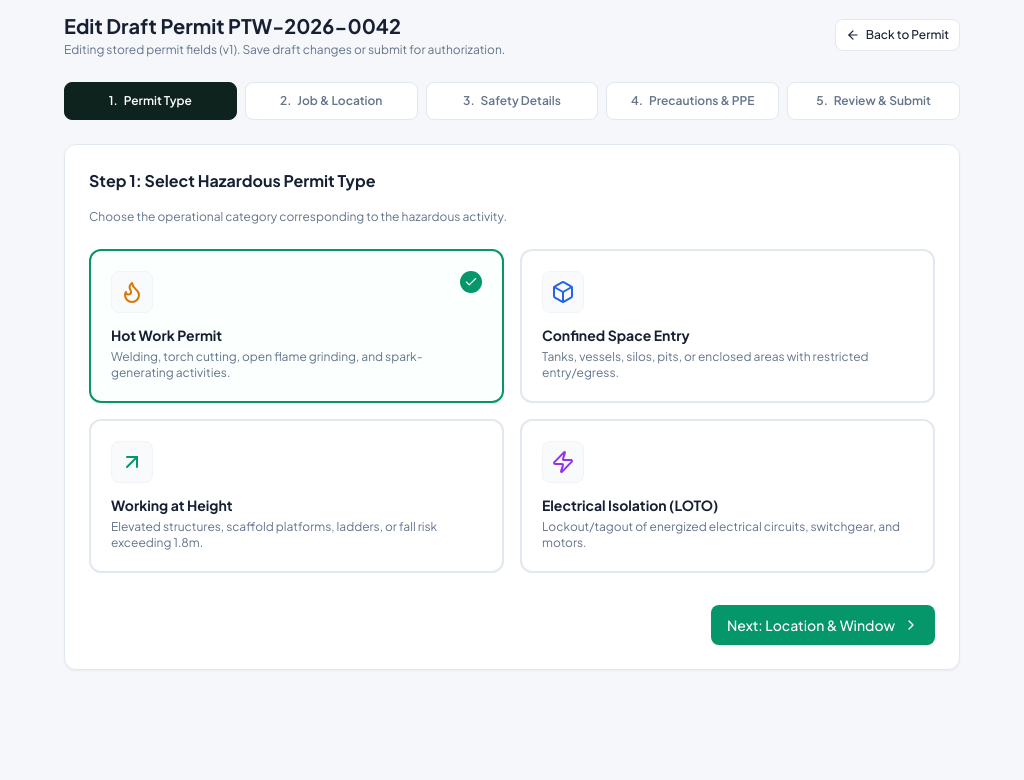
Scenario: Bug B UI Regression: EditPermitPage full draft hydration, version refresh, & step-level submit errors › jumps to the failing step and renders field-level errors next to controls when submit returns 422
Expected: the heading "Edit Draft Permit PTW-2026-0042" is shown, [64,13,401,38]
Jump to step 5 and attempt Submit
Click the text "Review & Submit" at [882, 101], box [834,93,931,109]
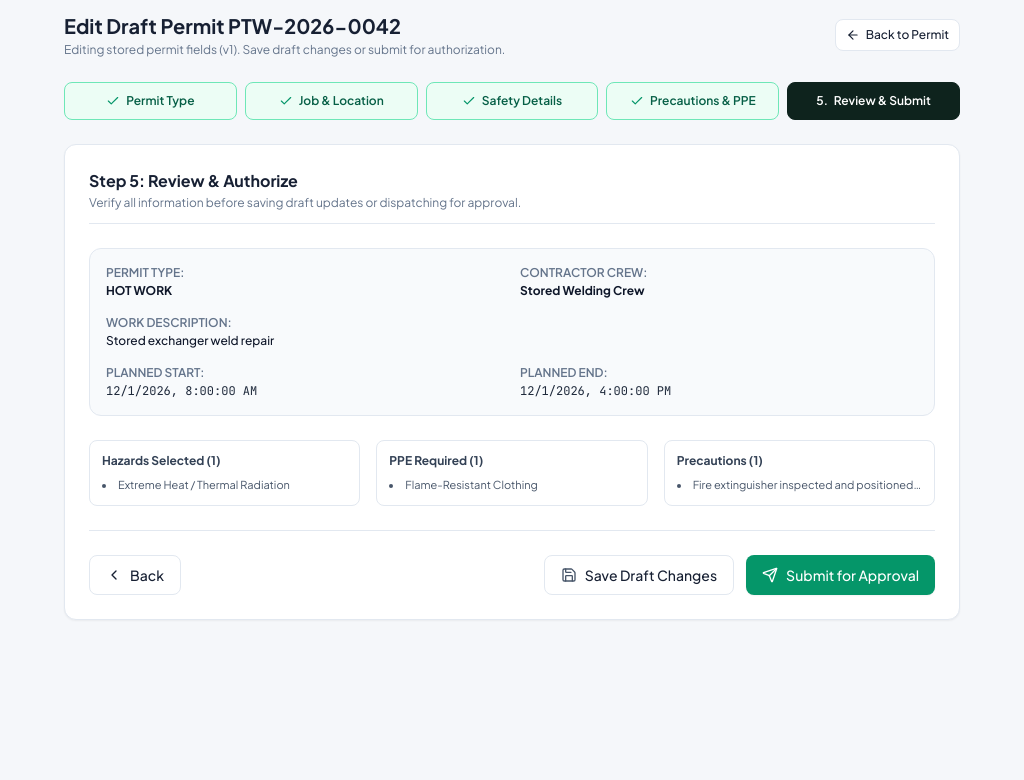
Click the button "Submit for Approval" at [841, 575], box [746,555,935,595]
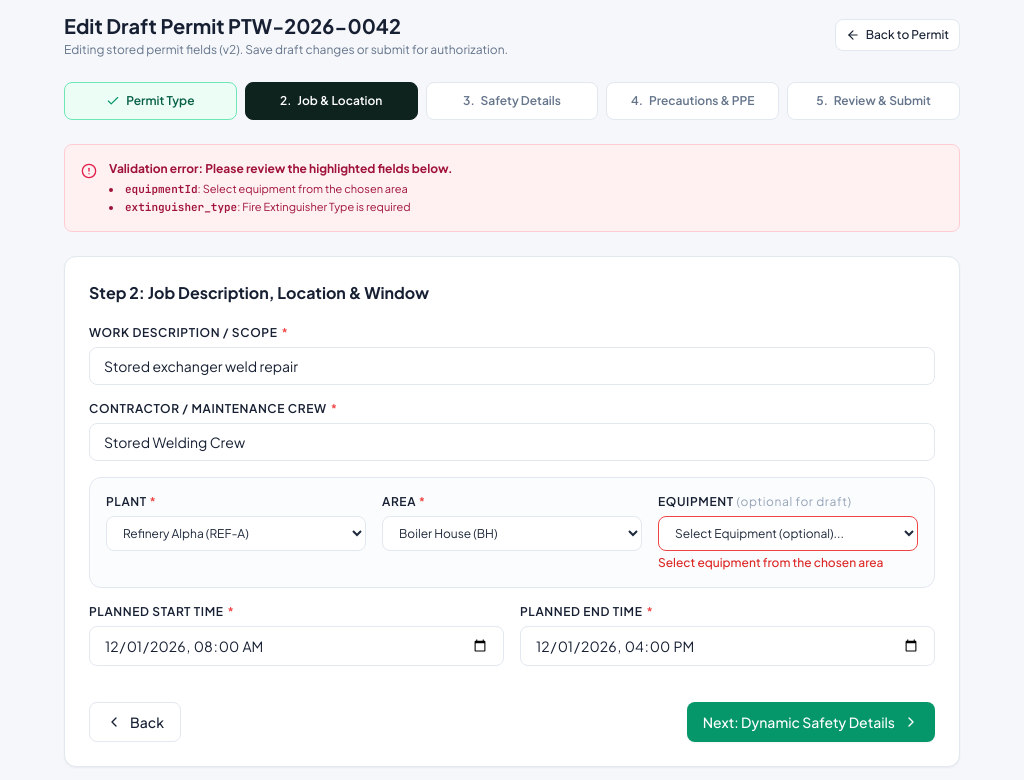
Expected: the heading "Step 2: Job Description, Location & Window" is shown, [89,282,429,303]
